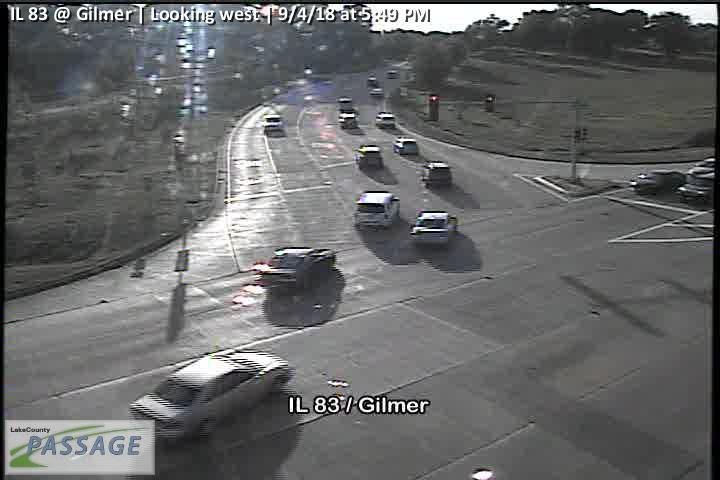SUV: (351, 189, 401, 229), (423, 160, 452, 189), (353, 144, 384, 170), (391, 133, 418, 156), (375, 111, 396, 130), (263, 113, 283, 132), (338, 111, 357, 129), (337, 96, 353, 111)
Sedan: (127, 346, 293, 446), (253, 246, 337, 295), (408, 209, 458, 245), (628, 168, 687, 198)
